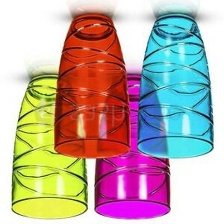glass: (51, 10, 136, 163), (134, 7, 218, 161), (91, 70, 176, 220), (9, 70, 91, 222)
